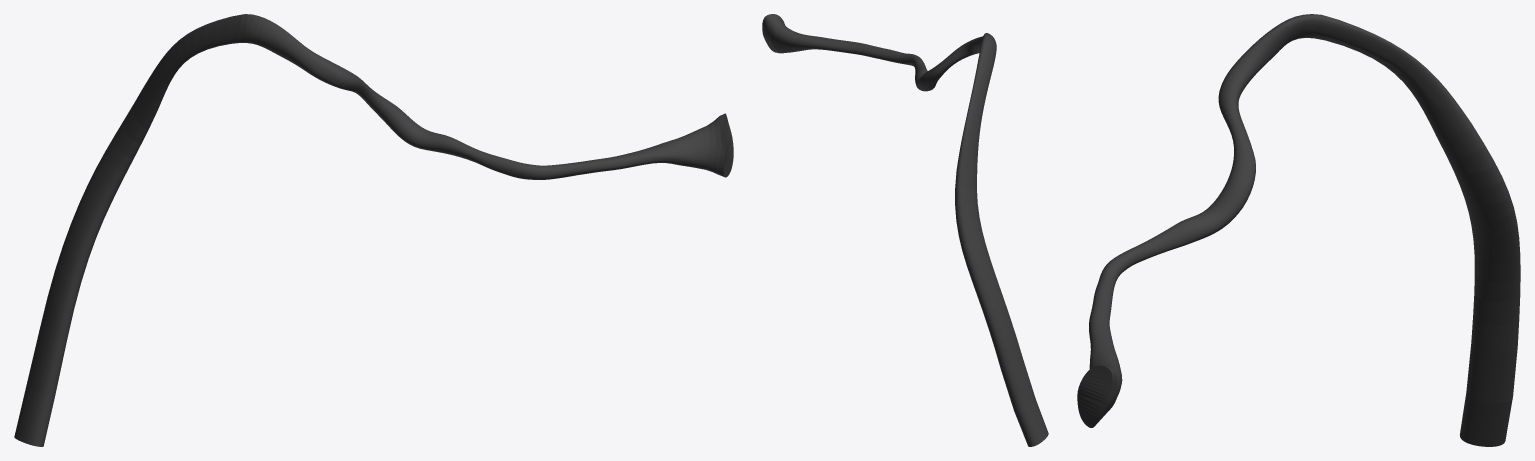
The model's file is N_7_facial.glb.
3 views of the same model, side by side, from view 1: azimuth 30°, elevation 25°; view 2: azimuth 150°, elevation 25°; view 3: azimuth 270°, elevation 25° (orthographic). The views are drawn at different scales.
Parts seen in each view (by area): view 1: N_7_facial; view 2: N_7_facial; view 3: N_7_facial.
Boxes of the visible parts, x1,y1,x2,y2 form: N_7_facial: (14,14,733,446); N_7_facial: (762,14,1048,446); N_7_facial: (1077,14,1520,446).
Bounding box in the file's own units: 0.0152 × 0.012 × 0.00943.
1 material, 1 textured.
